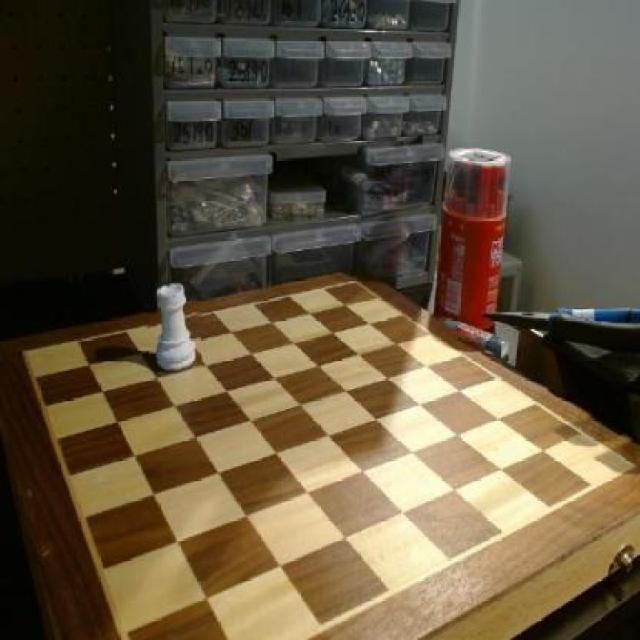white-queen: (148, 280, 202, 373)
